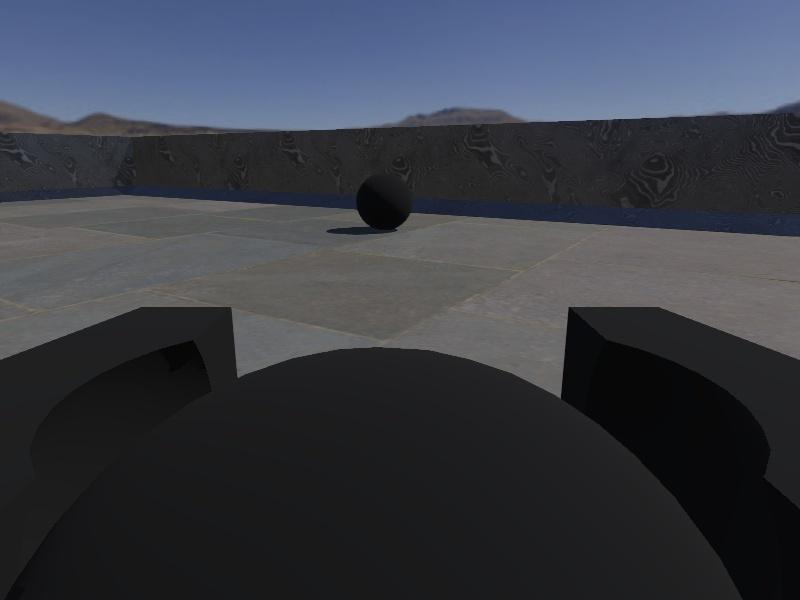black ball: (355, 172, 413, 231)
